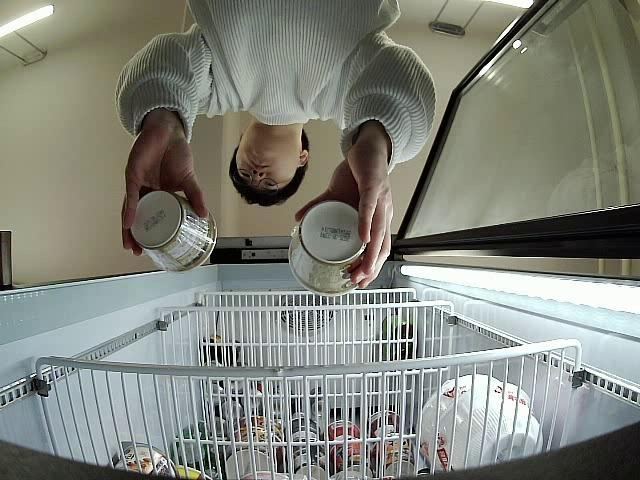04_chapagetti_S: (288, 204, 377, 297), (132, 192, 217, 272)
